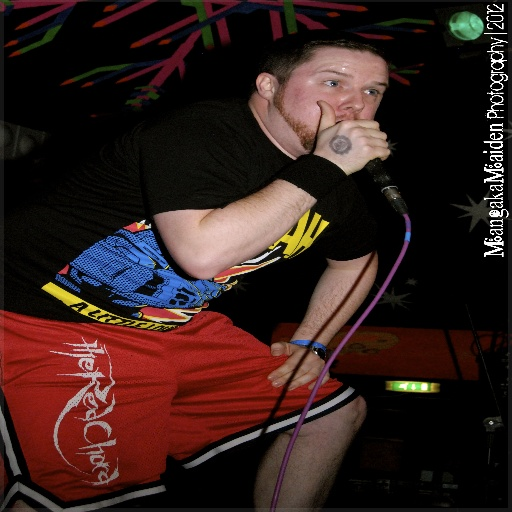hand: (320, 112, 407, 173), (270, 339, 331, 391)
